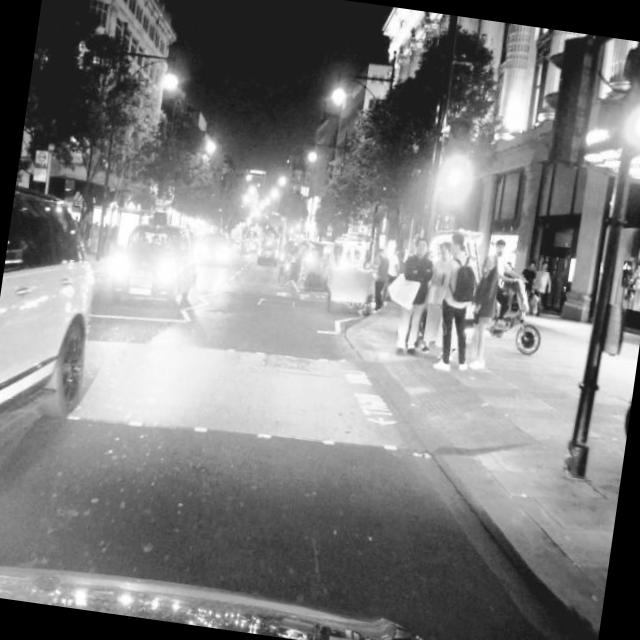Light: (535, 32, 603, 167), (440, 117, 474, 195), (617, 40, 640, 154)
